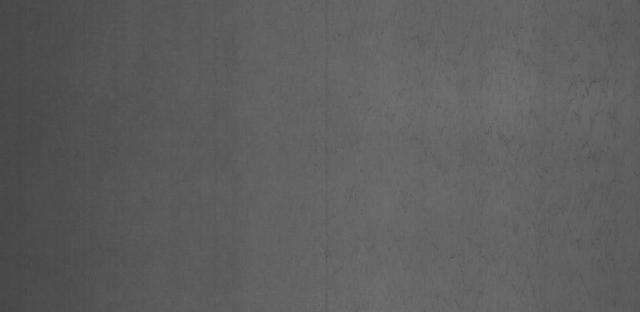silk_spot: (362, 13, 624, 283)
